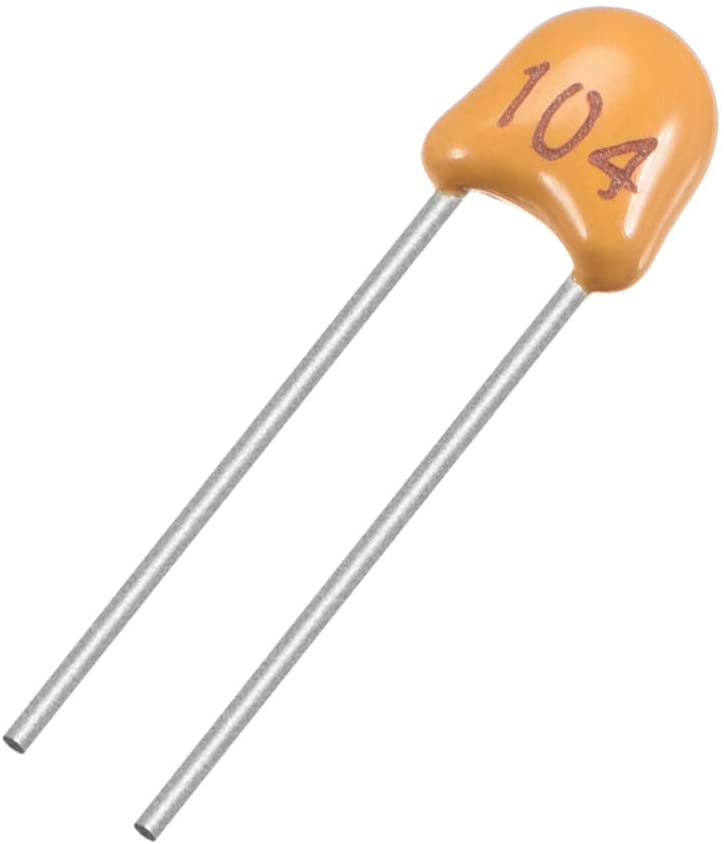capacitor: (398, 7, 722, 409)
